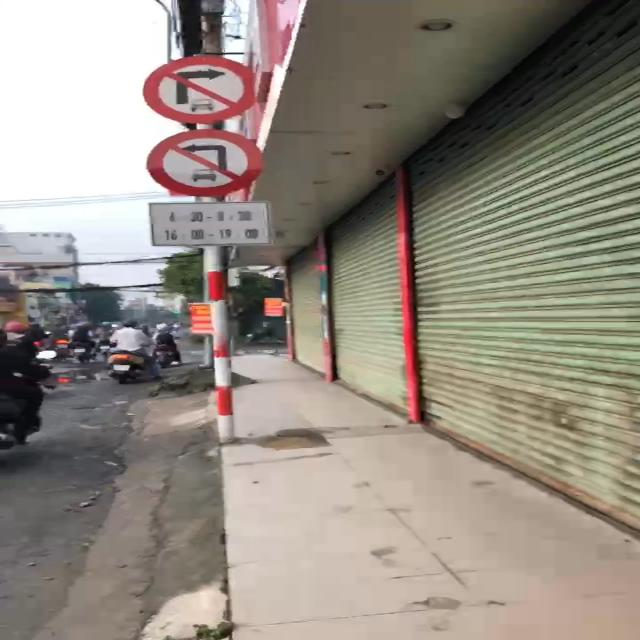Bien bao cam xe o to re phai: (141, 52, 270, 126)
Bien bao cam xe o to re trai: (142, 127, 279, 196)
